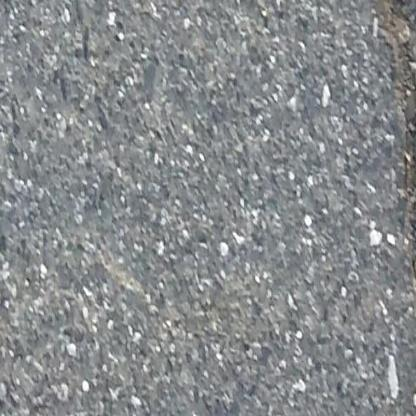Cracks: (385, 0, 416, 408)
